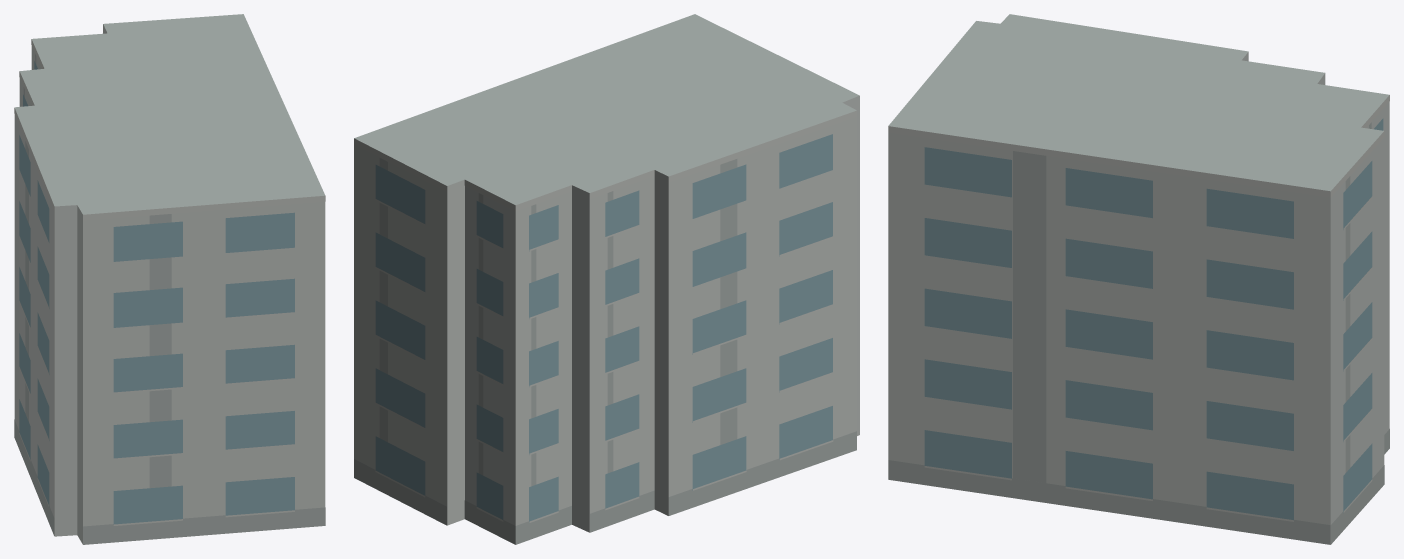
Rendered from survey-upis-32887640.glb.
3 renders of one model, left to right at view 1: azimuth 30°, elevation 25°; view 2: azimuth 150°, elevation 25°; view 3: azimuth 270°, elevation 25°, orthographic. The views are drawn at different scales.
Visible parts, largest first — view 1: survey-upis-32887640.tmp; view 2: survey-upis-32887640.tmp; view 3: survey-upis-32887640.tmp.
Boxes of the visible parts, x1,y1,x2,y2 form: survey-upis-32887640.tmp: (14,14,325,544); survey-upis-32887640.tmp: (354,14,859,544); survey-upis-32887640.tmp: (888,14,1389,544).
Bounding box in the file's own units: 14.25 × 13.25 × 17.04.
